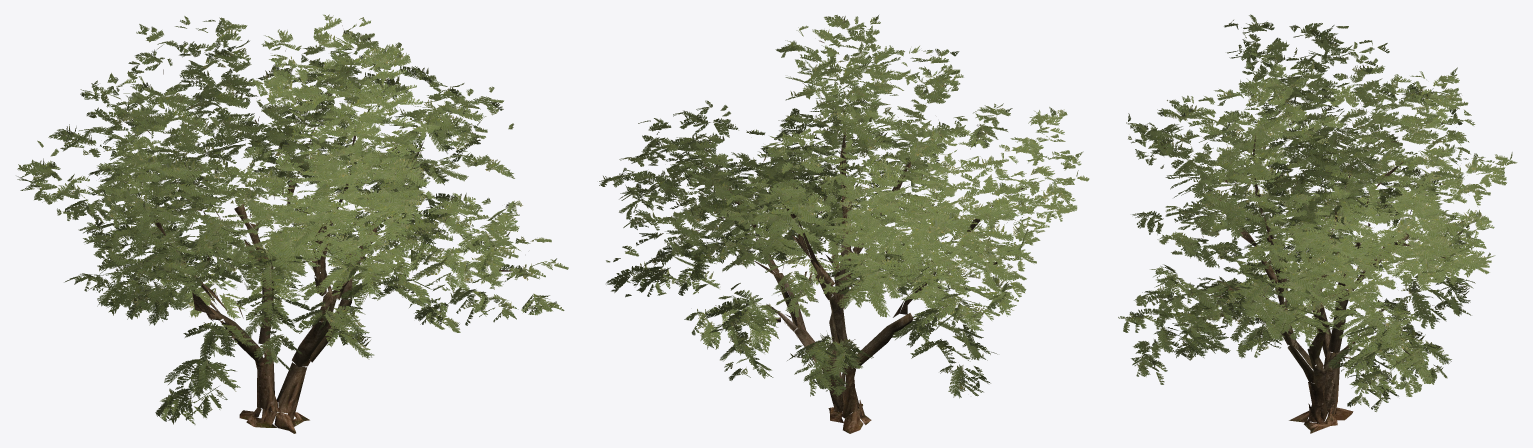
The model's file is veg-tree-jacaranda-lod0-d013b547292a.glb.
3 views of the same model, side by side, from view 1: azimuth 30°, elevation 25°; view 2: azimuth 150°, elevation 25°; view 3: azimuth 270°, elevation 25° (orthographic). The views are drawn at different scales.
Visible parts, largest first — view 1: veg-tree-jacaranda_lod0; view 2: veg-tree-jacaranda_lod0; view 3: veg-tree-jacaranda_lod0.
Boxes of the visible parts, x1,y1,x2,y2 form: veg-tree-jacaranda_lod0: (17,14,568,433); veg-tree-jacaranda_lod0: (599,15,1089,433); veg-tree-jacaranda_lod0: (1118,14,1517,433).
Size of the model in its own units: 11.68 by 9.5 by 9.28.
3 materials, 3 textured.
